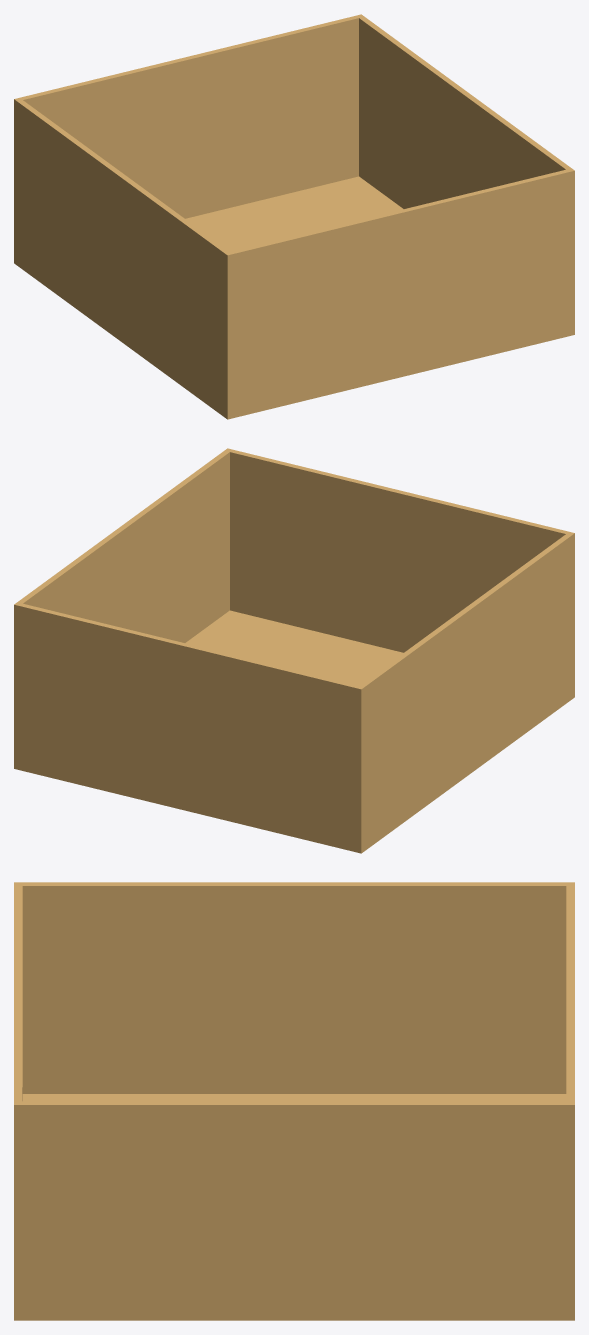
Rendered from delivery_box.dae.
3 renders of one model, top to bottom at view 1: azimuth 30°, elevation 25°; view 2: azimuth 150°, elevation 25°; view 3: azimuth 270°, elevation 25°, orthographic. The views are drawn at different scales.
Visible parts, largest first — view 1: Cube; view 2: Cube; view 3: Cube.
Part boxes in pixels (x1=…): Cube: x1=14, y1=14, x2=574, y2=419; Cube: x1=14, y1=448, x2=574, y2=853; Cube: x1=14, y1=882, x2=574, y2=1320.
Bounding box in the file's own units: 0.31 × 0.33 × 0.14.
